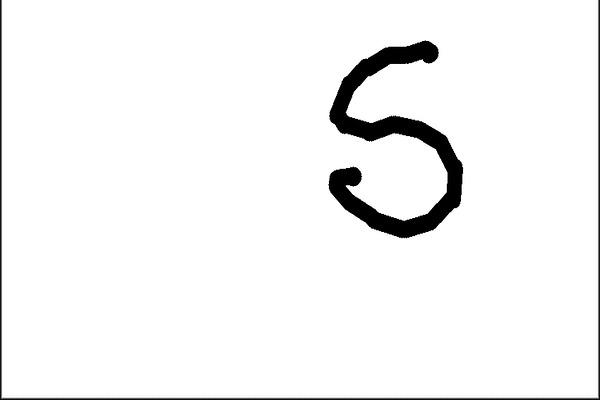S: (317, 38, 474, 246)
